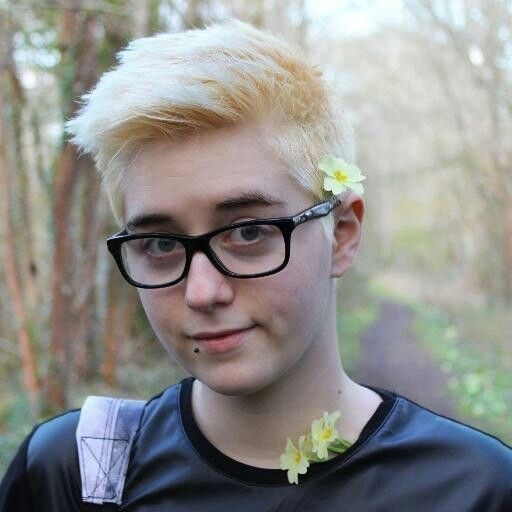face_no_mask: (112, 53, 359, 403)
